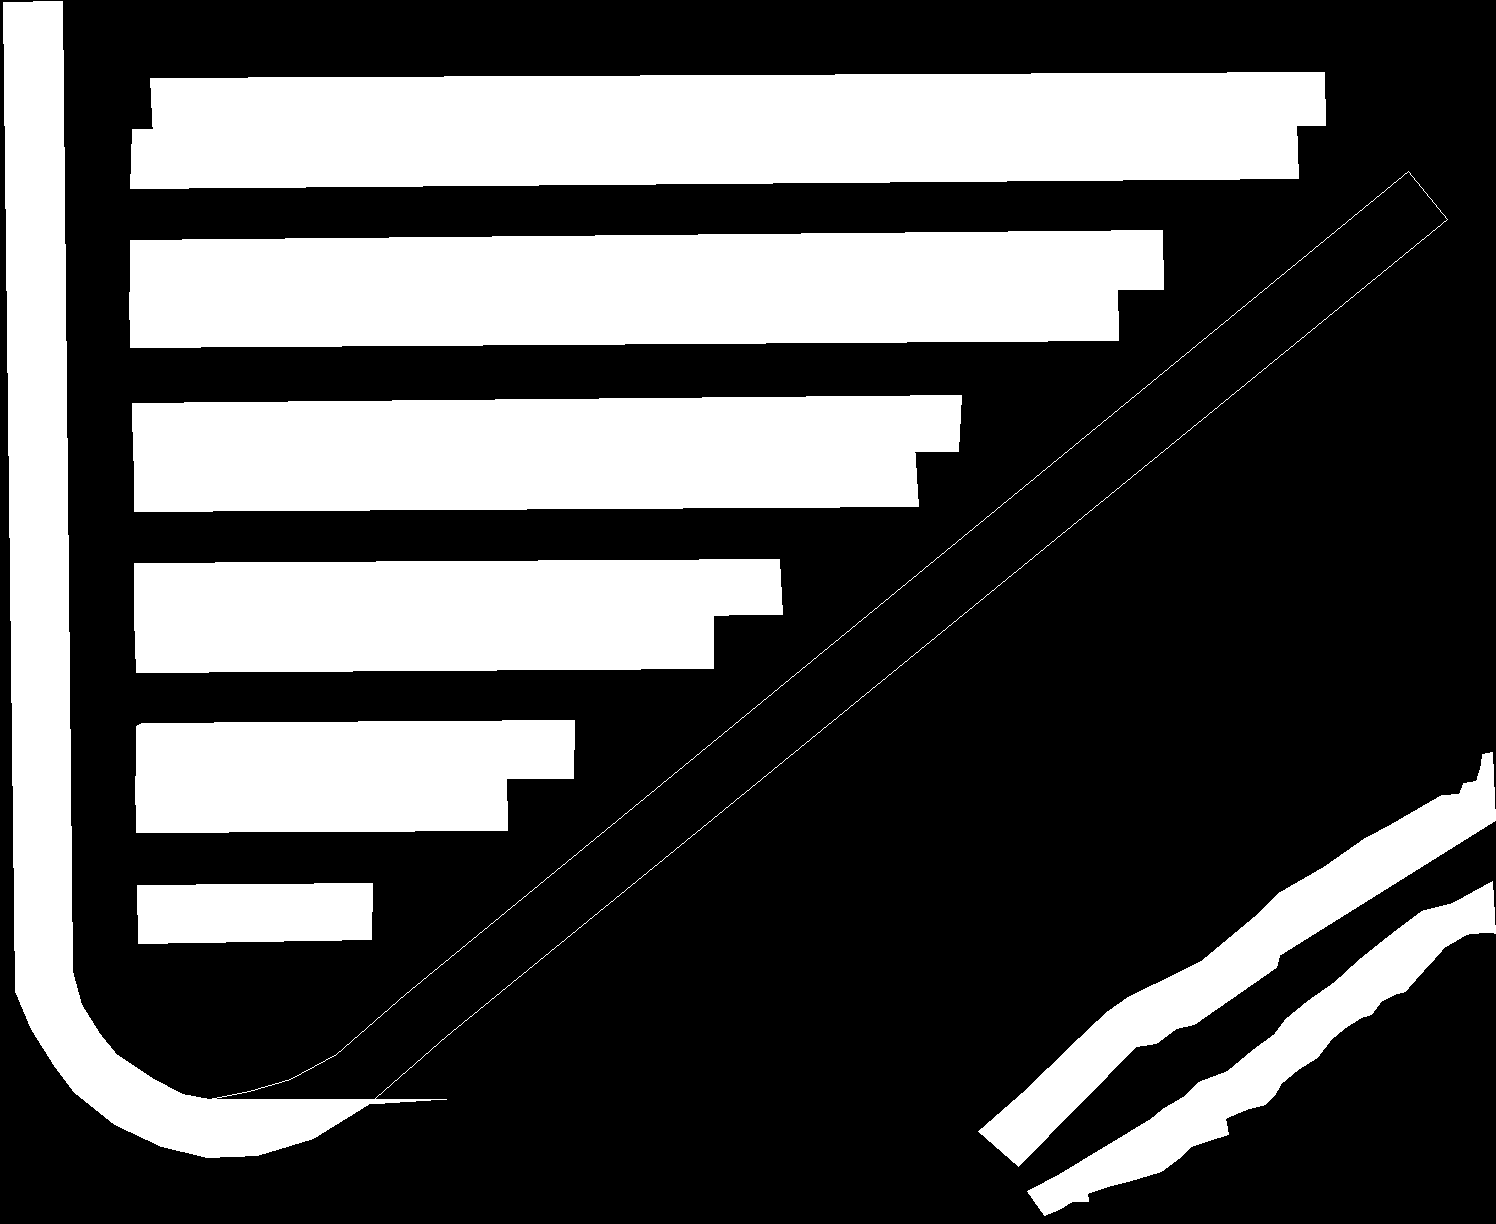parkingspot: (2, 1, 1448, 1157), (978, 752, 1495, 1166), (1028, 881, 1495, 1215), (130, 121, 1298, 188), (150, 72, 1325, 135), (130, 230, 1163, 297), (129, 282, 1118, 347), (132, 395, 960, 460), (134, 445, 918, 511), (134, 559, 782, 620), (134, 609, 713, 672), (135, 719, 574, 782), (135, 772, 507, 833), (137, 884, 372, 943)
